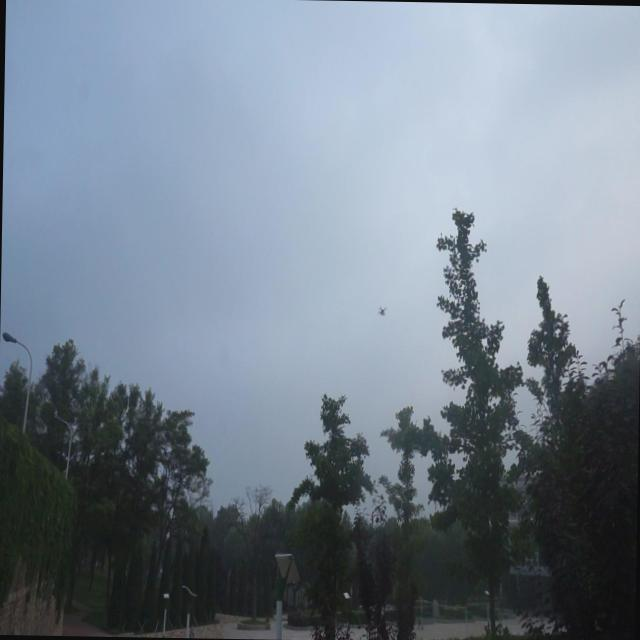drone: (375, 304, 388, 318)
